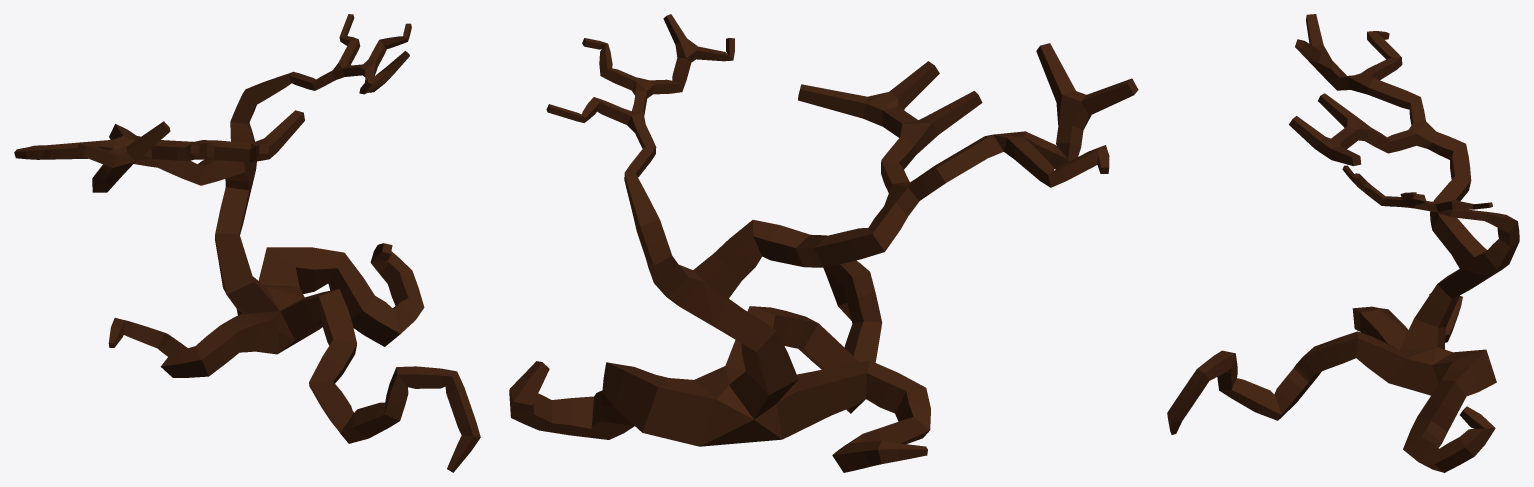
Rendered from tree1.obj.
3 views of the same model, side by side, from view 1: azimuth 30°, elevation 25°; view 2: azimuth 150°, elevation 25°; view 3: azimuth 270°, elevation 25° (orthographic). The views are drawn at different scales.
Parts seen in each view (by area): view 1: Cube_Cube.001; view 2: Cube_Cube.001; view 3: Cube_Cube.001.
Boxes of the visible parts, box(x1,y1,x2,y2) form: Cube_Cube.001: box(14, 14, 480, 472); Cube_Cube.001: box(509, 14, 1138, 472); Cube_Cube.001: box(1167, 14, 1519, 472).
Size of the model in its own units: 48.32 by 36.74 by 38.14.
